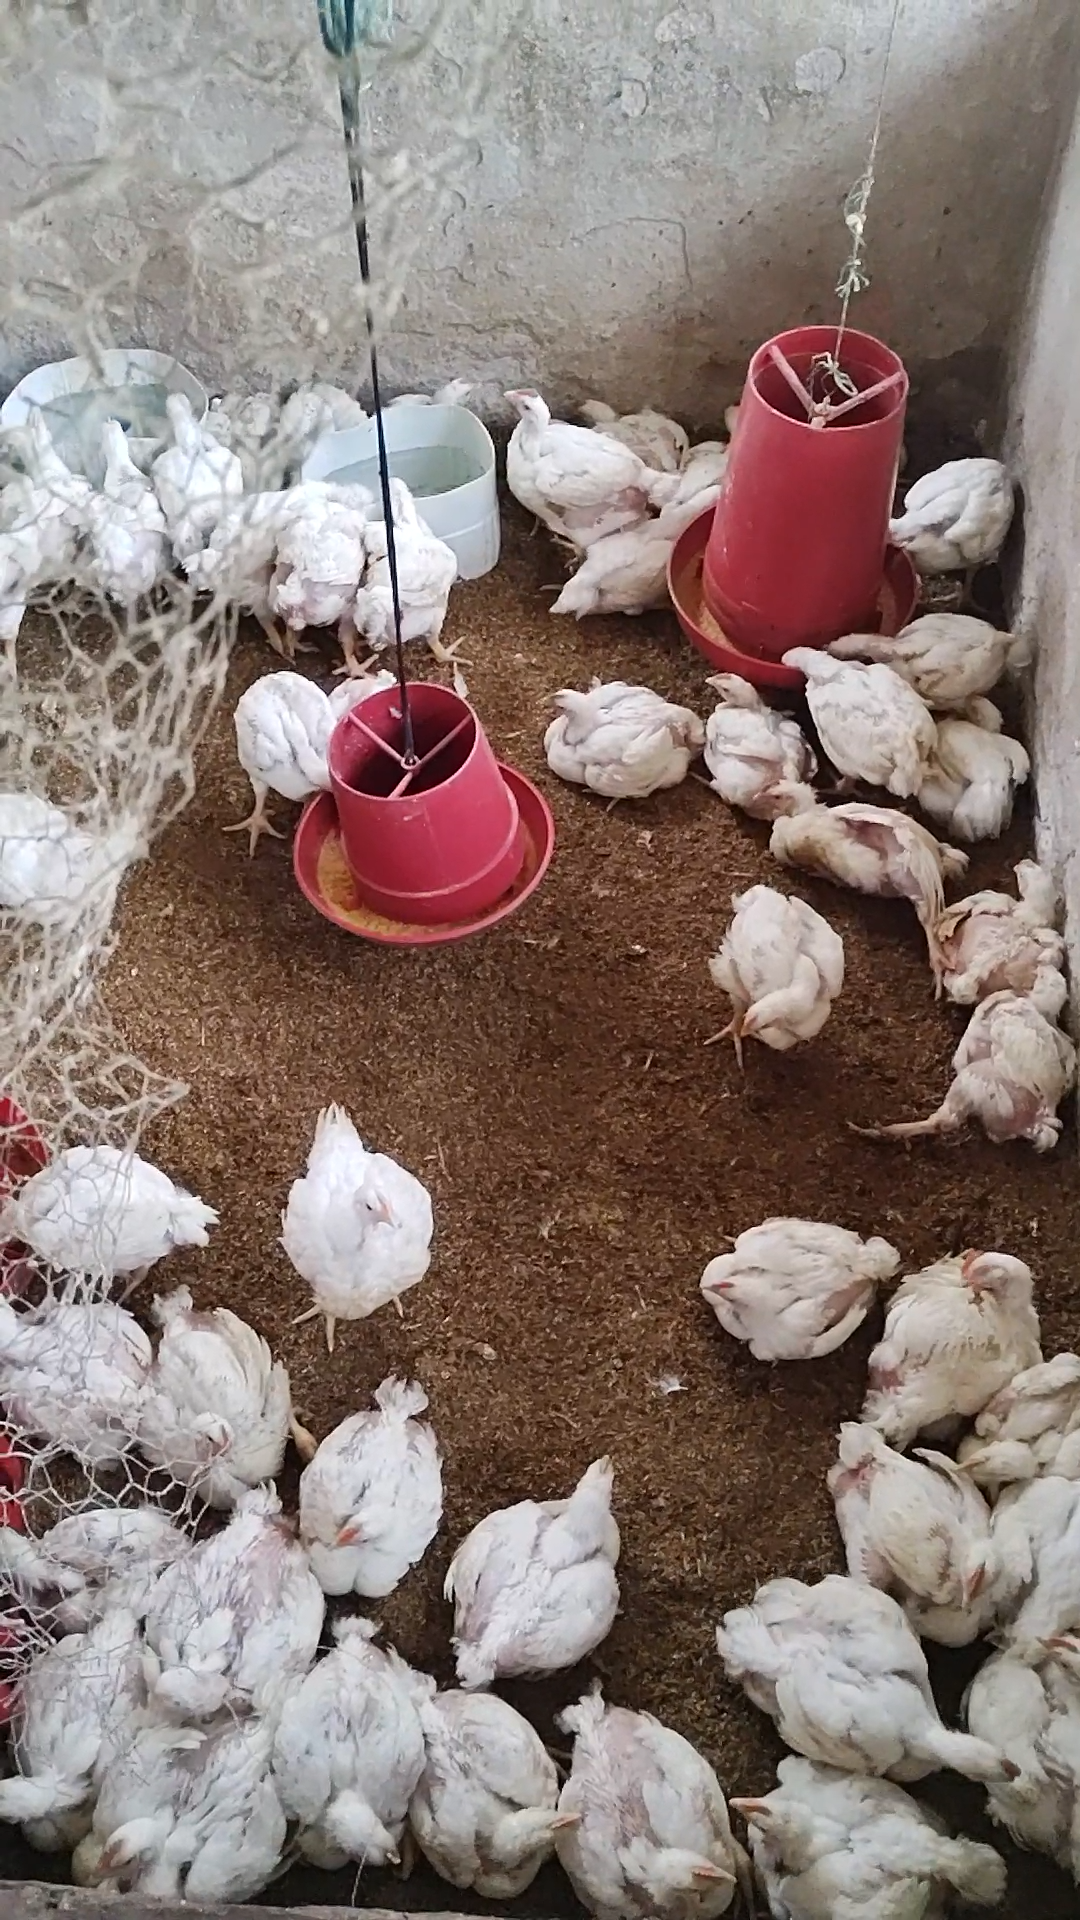Pollos: (707, 1567, 1029, 1783), (550, 1669, 748, 1916), (436, 1447, 633, 1692), (822, 968, 1076, 1142), (149, 1487, 327, 1735), (273, 1614, 430, 1874), (400, 1676, 582, 1899), (0, 1596, 162, 1840), (67, 1720, 302, 1886), (725, 1771, 1000, 1912), (270, 1098, 426, 1337), (144, 1270, 293, 1506), (864, 1234, 1056, 1416), (814, 1422, 993, 1617), (295, 1373, 444, 1605), (1, 1139, 212, 1294), (746, 771, 955, 919), (531, 483, 731, 634), (699, 1216, 899, 1364), (707, 876, 847, 1075), (0, 1295, 160, 1461), (200, 473, 338, 655), (498, 384, 655, 538), (781, 641, 931, 800), (73, 413, 185, 620), (223, 667, 344, 847), (531, 674, 705, 798), (361, 465, 462, 667), (272, 496, 377, 679), (876, 444, 1026, 570), (835, 617, 1029, 711), (996, 1633, 1080, 1847), (702, 662, 822, 812), (964, 1349, 1080, 1503), (149, 378, 247, 556), (1, 1505, 175, 1597), (11, 402, 96, 588), (928, 694, 1026, 836), (928, 857, 1055, 963), (574, 393, 688, 462)
